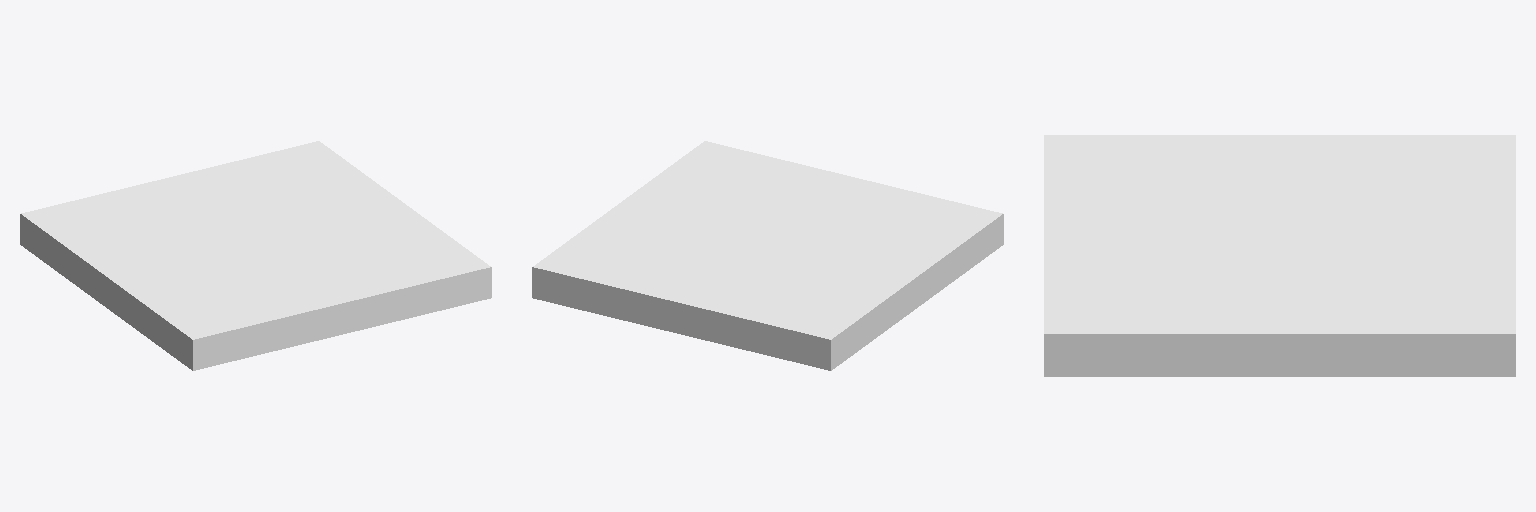
robot.urdf — 0.urdf:
<?xml version="0.0" ?>
<robot name="0.urdf">
  <link name="baseLink">
    <contact>
      <lateral_friction value="0.8"/>
      <rolling_friction value="0.001"/>g
      <contact_cfm value="0.0"/>
      <contact_erp value="1.0"/>
    </contact>
    <inertial>
    <origin rpy="0 0 0" xyz="0.01 0.0 0.01"/>
       <mass value=".066"/>
       <inertia ixx="1e-3" ixy="0" ixz="0" iyy="1e-3" iyz="0" izz="1e-3"/>
    </inertial>
    <visual>
      <geometry>
        <mesh filename="300.obj" scale="0.05 0.05 0.05"/>
      </geometry>
      <material name="white">
        <color rgba="1. 1. 1. 1."/>
      </material>
    </visual>
    <collision>
      <geometry>
    	 	<mesh filename="300.obj" scale="0.05 0.05 0.05"/>
      </geometry>
    </collision>
  </link>
</robot>

--- Render facts (derived) ---
The picture shows the robot from 3 angles, left to right: view 1: azimuth 30°, elevation 25°; view 2: azimuth 150°, elevation 25°; view 3: azimuth 270°, elevation 25°; orthographic projection.
Robot: 0.urdf — 1 links, 0 joints (none); root link baseLink; default pose: every joint at zero.
Links seen in each view (by area): view 1: baseLink; view 2: baseLink; view 3: baseLink.
Link boxes in pixels (<box>): baseLink: <box>20,141,491,370</box>; baseLink: <box>532,141,1003,370</box>; baseLink: <box>1044,135,1515,376</box>.
Size in the robot's own frame: 0.1 by 0.1 by 0.01 metres.
1 mesh visuals loaded from 1 distinct referenced files (1 OBJ).
